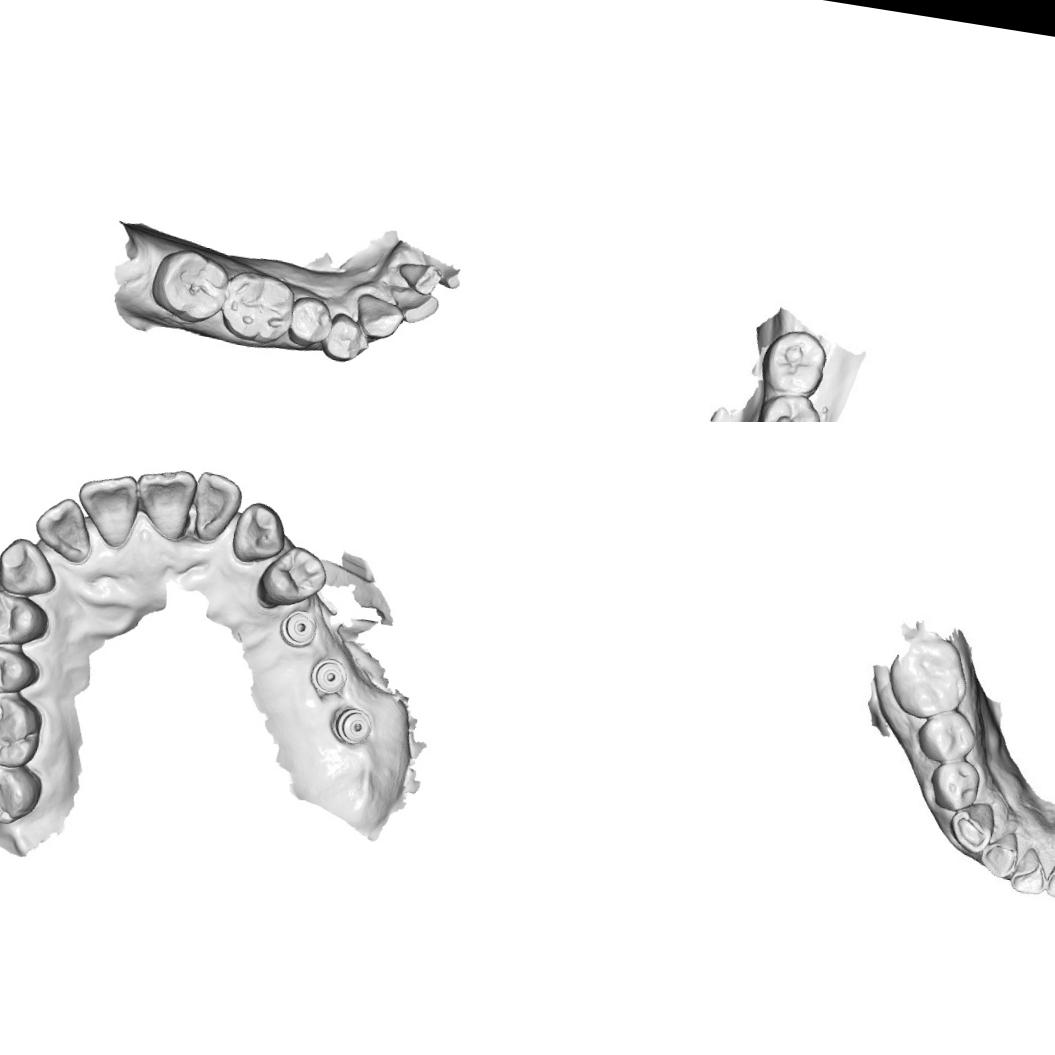canine: (228, 498, 290, 568), (0, 534, 63, 601), (942, 798, 999, 860), (350, 289, 408, 344)
implant: (306, 652, 352, 698), (330, 703, 376, 748), (276, 606, 320, 652)
incisor: (70, 467, 144, 552), (128, 463, 200, 545), (28, 493, 98, 566), (185, 469, 246, 548), (386, 282, 442, 328), (392, 257, 444, 299), (1005, 847, 1048, 897), (979, 834, 1017, 882), (1043, 853, 1055, 903)
molar: (883, 633, 974, 727), (146, 242, 234, 330), (218, 266, 302, 350), (758, 324, 831, 403), (0, 685, 47, 771), (0, 756, 46, 830), (750, 391, 825, 422)
premolar: (253, 540, 331, 618), (915, 706, 980, 768), (922, 755, 984, 817), (0, 585, 53, 651), (283, 291, 335, 352), (320, 308, 372, 365), (0, 640, 43, 701)
